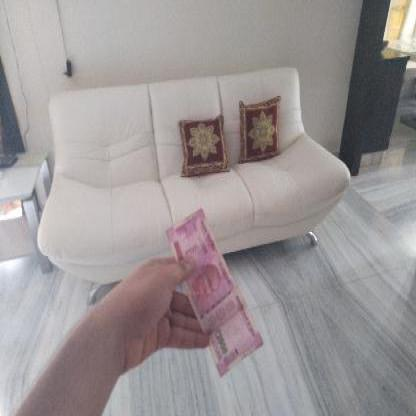New2000Front: (156, 208, 266, 379)
